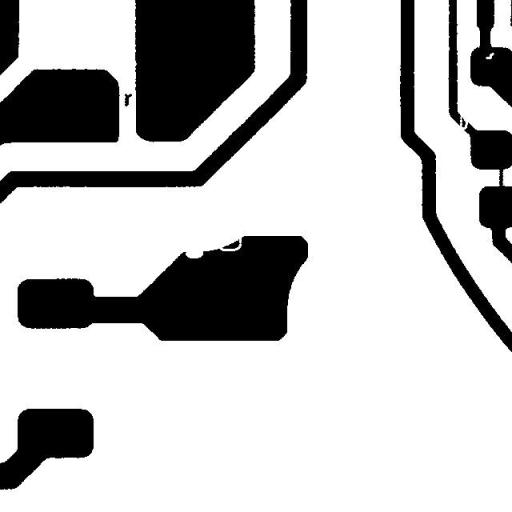copper: (117, 86, 139, 114)
mousebite: (212, 229, 249, 258), (178, 239, 210, 266)
open: (452, 106, 475, 136)
pin-hole: (478, 45, 502, 66)
short: (492, 154, 510, 200)
